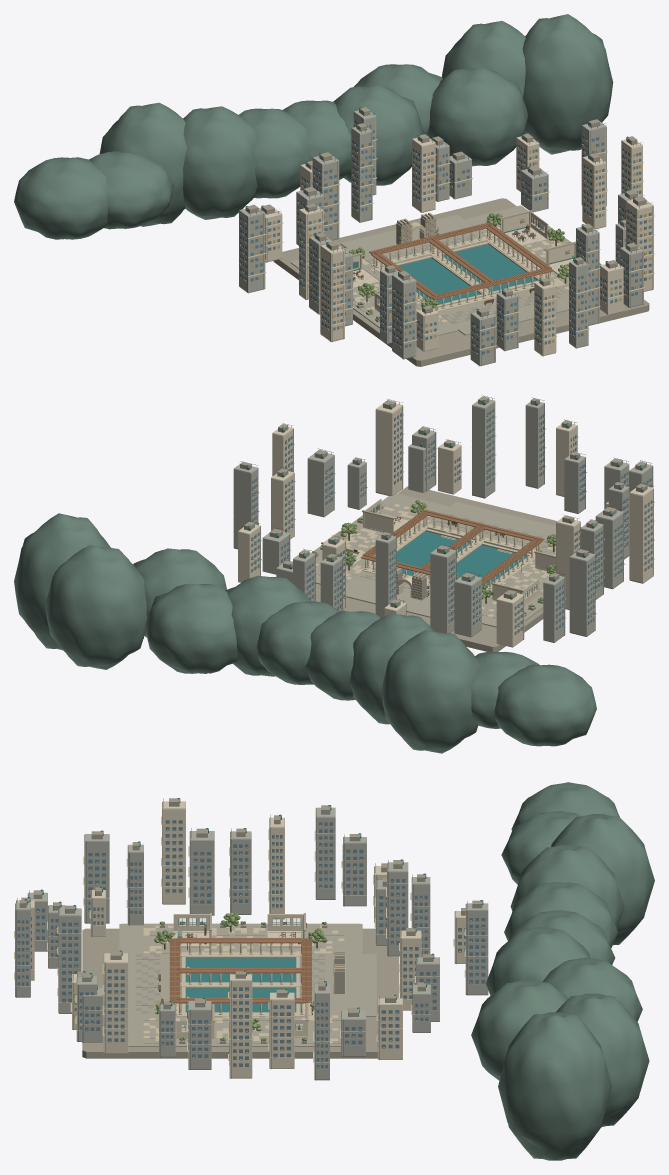
The model's file is bethesda-world.glb.
The picture shows the model from 3 angles, top to bottom: view 1: azimuth 30°, elevation 25°; view 2: azimuth 150°, elevation 25°; view 3: azimuth 270°, elevation 25°; orthographic projection. The views are drawn at different scales.
Parts seen in each view (by area): view 1: Hong Kong mountain ridge.010, Hong Kong mountain ridge.008, Hong Kong mountain ridge.003, Hong Kong mountain ridge, Hong Kong mountain ridge.002, Hong Kong mountain ridge.006, Hong Kong mountain ridge.001, HK side window combined Harbour glass, Stone island foundation, Hong Kong mountain ridge.004, Hong Kong mountain ridge.009, Hong Kong mountain ridge.005 (+44 smaller); view 2: Hong Kong mountain ridge.009, Hong Kong mountain ridge.002, Hong Kong mountain ridge.007, Hong Kong mountain ridge, Hong Kong mountain ridge.010, HK side window combined Harbour glass, Hong Kong mountain ridge.005, Hong Kong mountain ridge.003, Hong Kong mountain ridge.006, Hong Kong mountain ridge.004, Hong Kong mountain ridge.008, Stone island foundation (+42 smaller); view 3: Hong Kong mountain ridge.010, HK side window combined Harbour glass, Stone island foundation, Hong Kong mountain ridge.009, Hong Kong mountain ridge.002, Hong Kong mountain ridge.008, Hong Kong mountain ridge.003, Hong Kong mountain ridge.006, Weathered paving slab combined Paving, HK side floor seam combined Pale limestone, Hong Kong mountain ridge.004, Hong Kong mountain ridge.007 (+48 smaller).
Boxes of the visible parts, left/top/right/bottom form: Hong Kong mountain ridge.010: left=522, top=14, right=613, bottom=154; Hong Kong mountain ridge.008: left=428, top=67, right=528, bottom=166; Hong Kong mountain ridge.003: left=183, top=106, right=257, bottom=219; Hong Kong mountain ridge: left=14, top=157, right=107, bottom=239; Hong Kong mountain ridge.002: left=99, top=102, right=187, bottom=226; Hong Kong mountain ridge.006: left=333, top=85, right=424, bottom=185; Hong Kong mountain ridge.001: left=89, top=151, right=173, bottom=229; HK side window combined Harbour glass: left=240, top=120, right=635, bottom=354; Stone island foundation: left=273, top=198, right=649, bottom=366; Hong Kong mountain ridge.004: left=239, top=108, right=308, bottom=198; Hong Kong mountain ridge.009: left=442, top=21, right=525, bottom=96; Hong Kong mountain ridge.005: left=283, top=100, right=351, bottom=179; Hong Kong mountain ridge.009: left=45, top=545, right=147, bottom=669; Hong Kong mountain ridge.002: left=381, top=630, right=479, bottom=753; Hong Kong mountain ridge.007: left=145, top=583, right=237, bottom=673; Hong Kong mountain ridge: left=494, top=664, right=596, bottom=746; Hong Kong mountain ridge.010: left=14, top=513, right=110, bottom=650; HK side window combined Harbour glass: left=251, top=408, right=652, bottom=635; Hong Kong mountain ridge.005: left=256, top=601, right=340, bottom=684; Hong Kong mountain ridge.003: left=350, top=613, right=435, bottom=724; Hong Kong mountain ridge.006: left=225, top=575, right=311, bottom=676; Hong Kong mountain ridge.004: left=305, top=611, right=380, bottom=700; Hong Kong mountain ridge.008: left=133, top=548, right=226, bottom=637; Stone island foundation: left=315, top=486, right=629, bottom=651; Hong Kong mountain ridge.010: left=498, top=1012, right=611, bottom=1160; HK side window combined Harbour glass: left=17, top=820, right=485, bottom=1068; Stone island foundation: left=82, top=928, right=399, bottom=1058; Hong Kong mountain ridge.009: left=556, top=993, right=649, bottom=1127; Hong Kong mountain ridge.002: left=551, top=814, right=654, bottom=945; Hong Kong mountain ridge.008: left=471, top=979, right=568, bottom=1080; Hong Kong mountain ridge.003: left=510, top=844, right=624, bottom=928; Hong Kong mountain ridge.006: left=486, top=927, right=590, bottom=995; Weathered paving slab combined Paving: left=143, top=925, right=344, bottom=1043; HK side floor seam combined Pale limestone: left=15, top=824, right=487, bottom=1069; Hong Kong mountain ridge.004: left=504, top=882, right=617, bottom=947; Hong Kong mountain ridge.007: left=542, top=957, right=642, bottom=1021.
Bounding box in the file's own units: 285 × 65.27 × 253.
